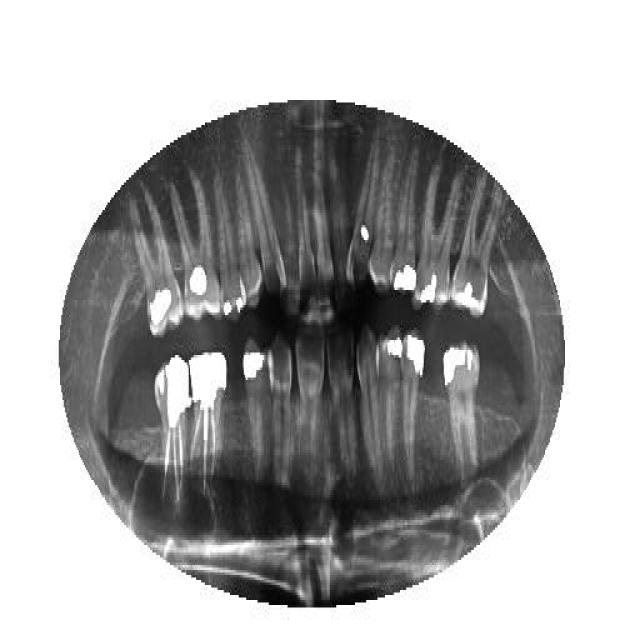Fillings: (170, 173, 224, 325), (129, 190, 181, 340), (412, 162, 462, 318), (451, 172, 501, 320), (215, 170, 245, 328), (444, 340, 481, 462), (389, 163, 416, 295), (378, 325, 402, 470), (243, 340, 265, 485), (404, 332, 426, 462)
Implant: (154, 350, 191, 508), (189, 352, 229, 498)
